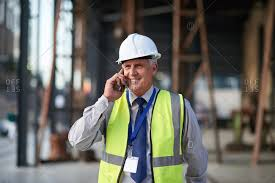Person_wearing_helmet: (112, 25, 162, 70)
